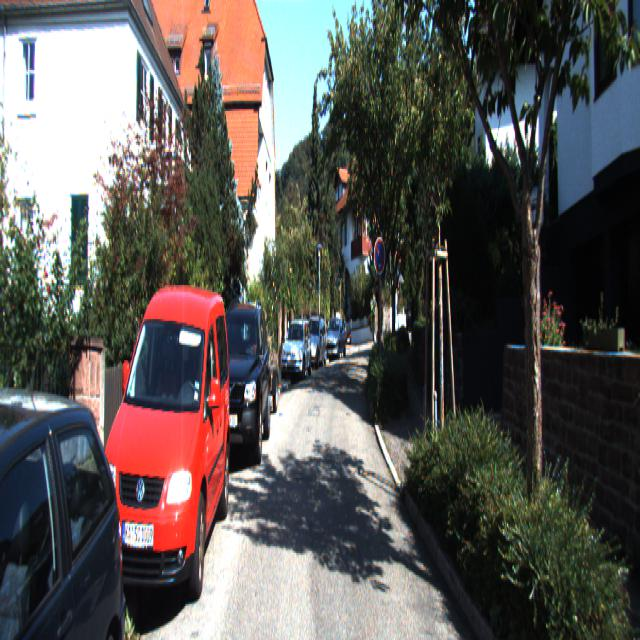Car: (93, 268, 234, 638), (0, 354, 137, 638), (206, 295, 272, 480), (280, 316, 312, 385), (302, 314, 327, 372), (325, 316, 347, 362)
